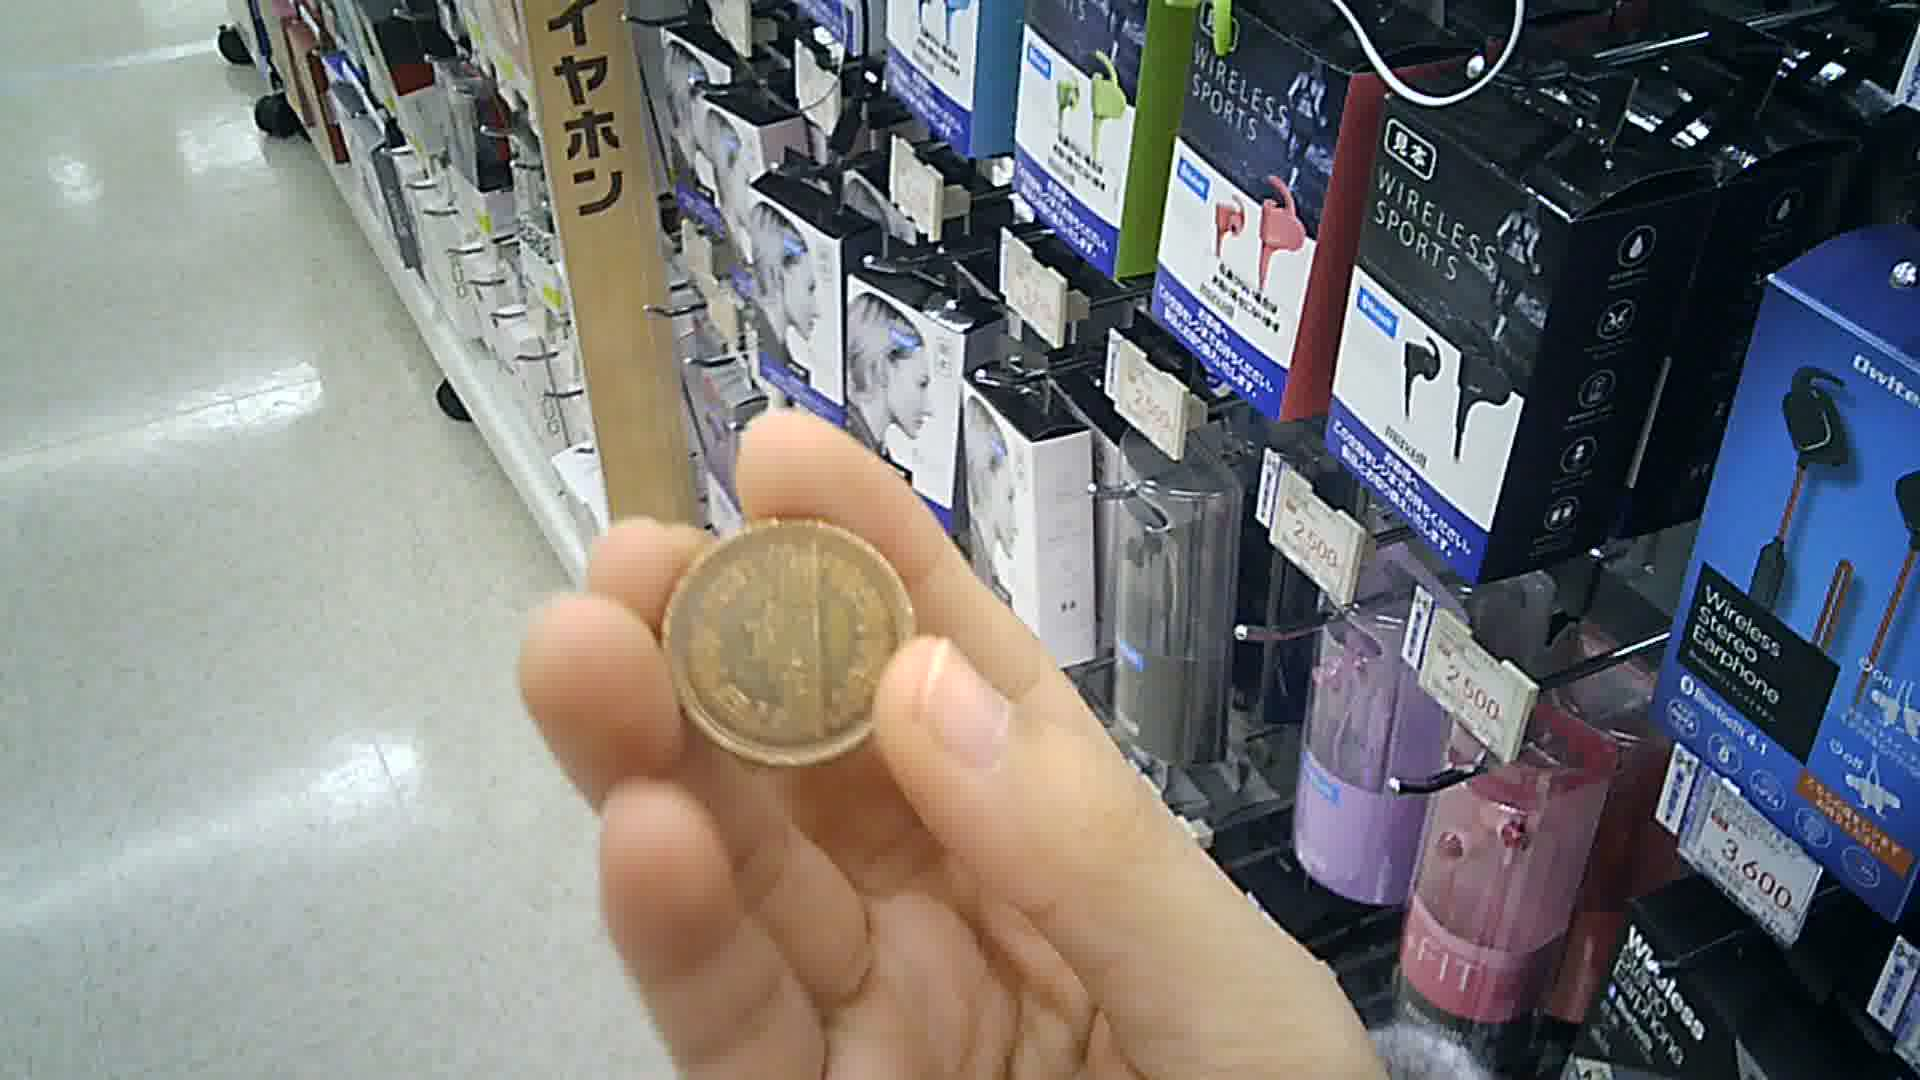10 Yen: (665, 520, 924, 761)
